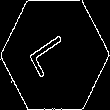L_NE: (29, 29, 81, 81)
